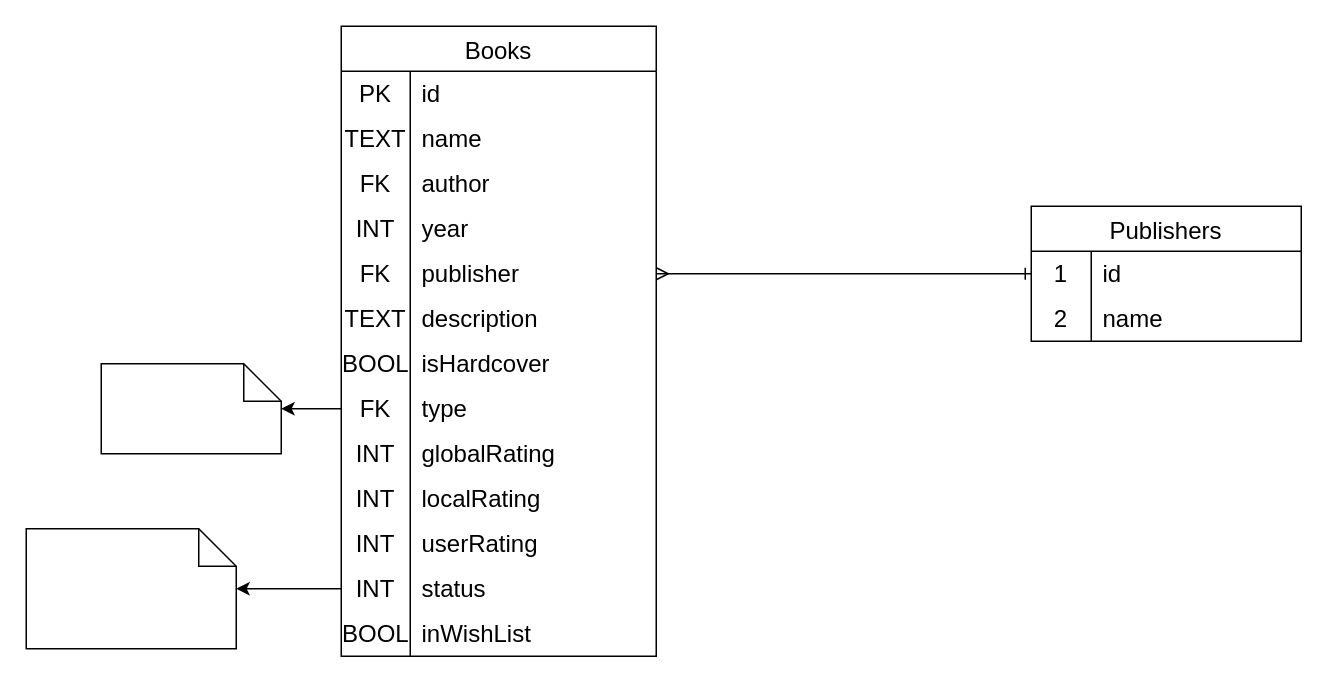
This 1328x683 diagram has some shape labels left out. The shapes that lost their labels are listed below. From the top down, each one's centre as x and y in pixels, then its label:
point (190, 408): basic, delux, limited, etc
point (130, 588): WantToRead | In Progress | Finished | NONE
